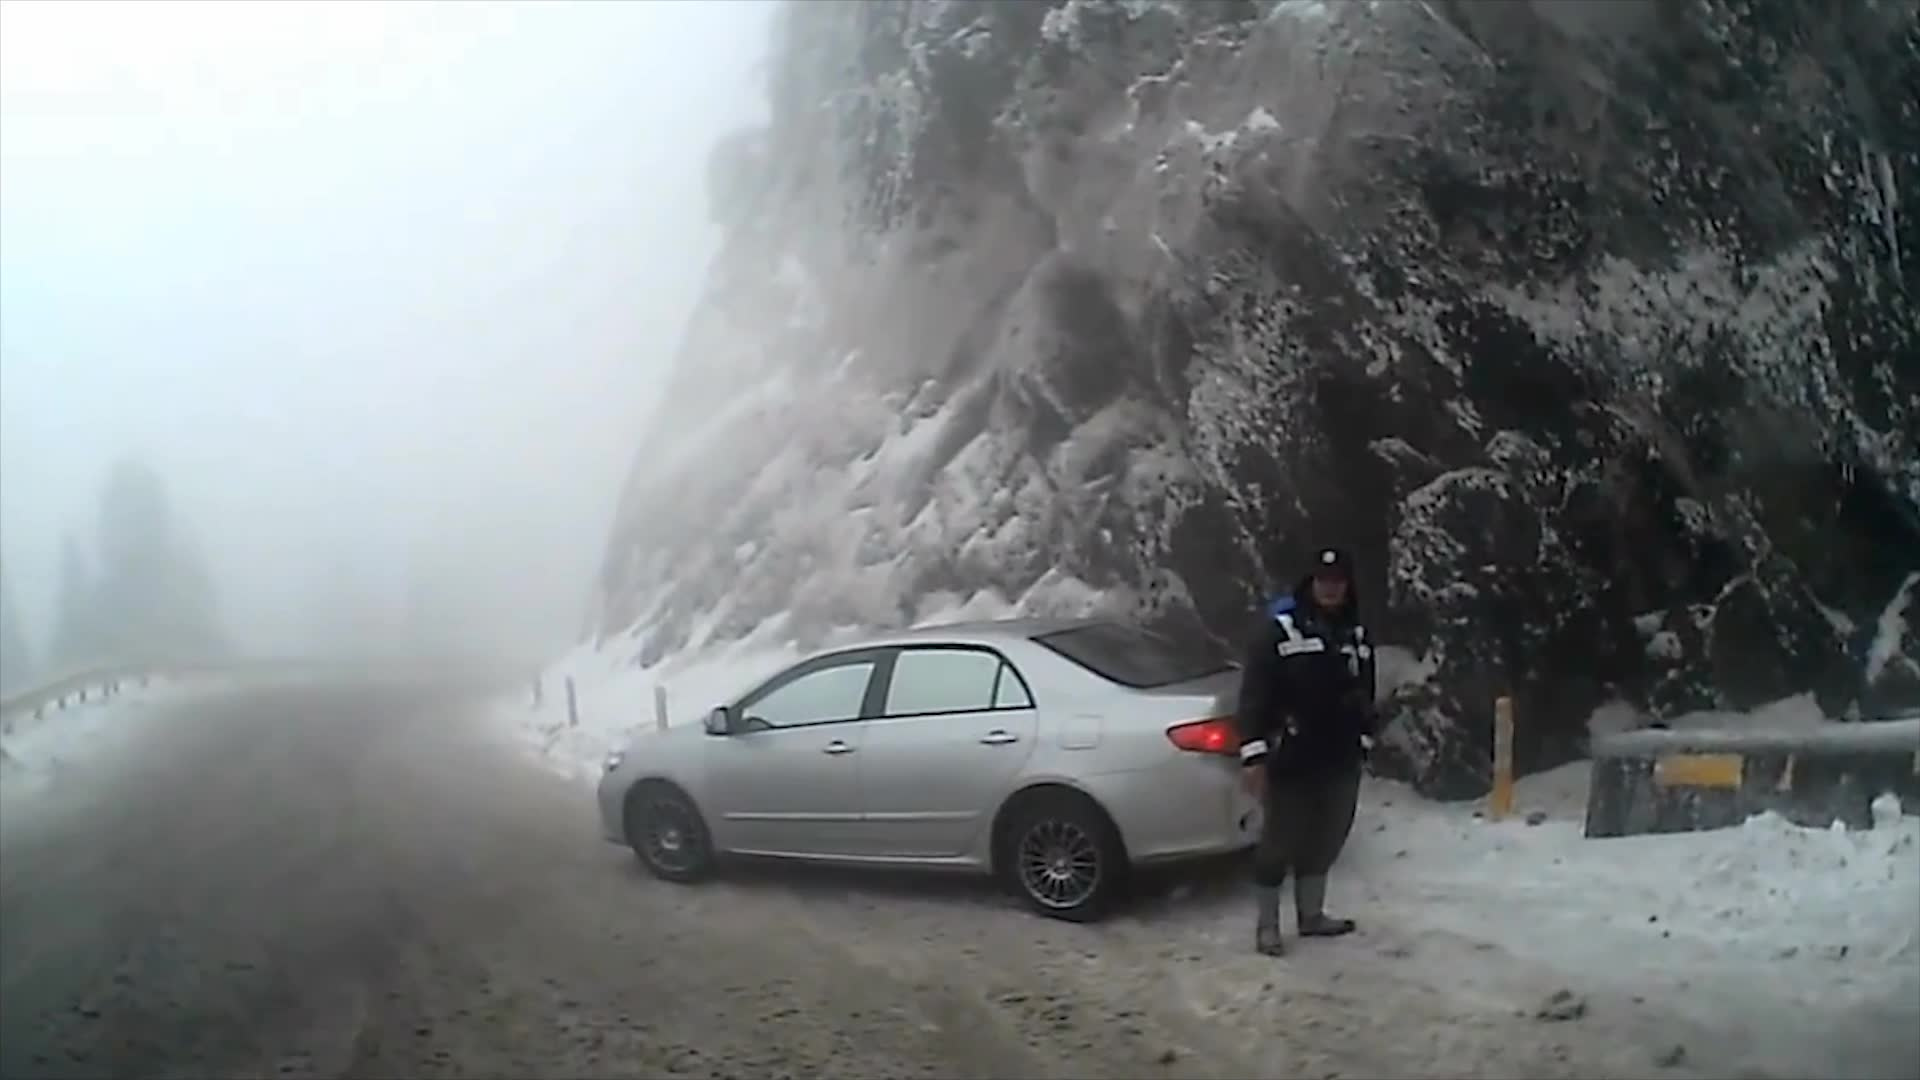pedestrian: (1234, 543, 1384, 961)
vehicle: (600, 622, 1338, 930)
